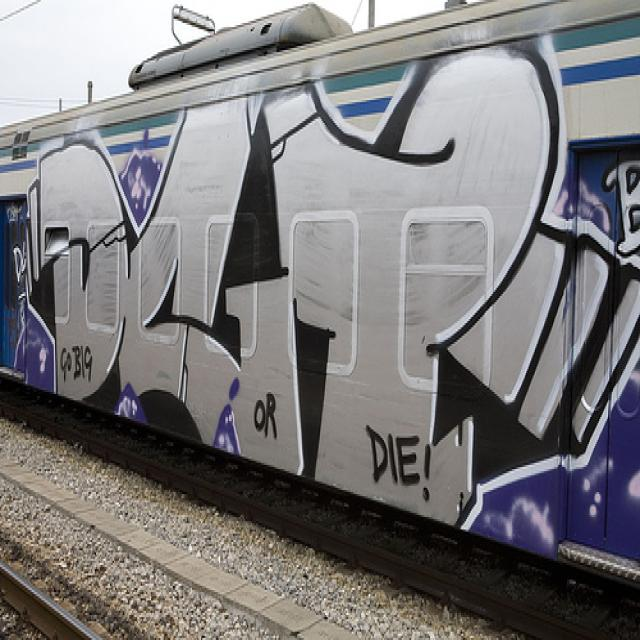train: (1, 1, 640, 631)
